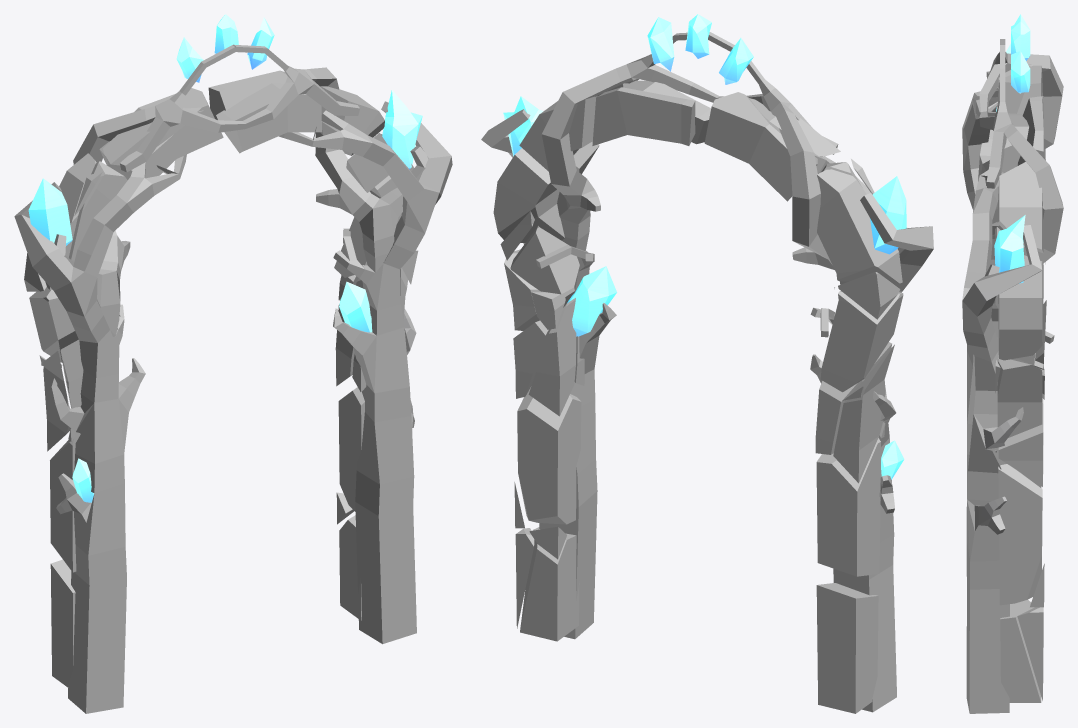
Rendered from Portal.fbx.
3 renders of one model, left to right at view 1: azimuth 30°, elevation 25°; view 2: azimuth 150°, elevation 25°; view 3: azimuth 270°, elevation 25°, orthographic. The views are drawn at different scales.
Parts seen in each view (by area): view 1: Portal; view 2: Portal; view 3: Portal.
Part boxes in pixels (x1,y1,x2,y2): Portal: (14, 14, 452, 713); Portal: (481, 14, 933, 713); Portal: (962, 14, 1063, 713).
Bounding box in the file's own units: 874 × 1275 × 190.
